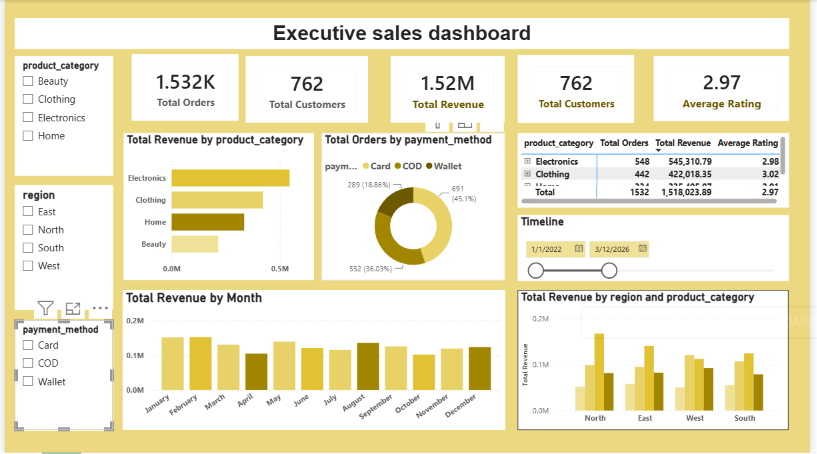

Layout of this report page (visuals, bound fields, positions):
{"tool":"powerbi","page":{"name":"Page 1","canvas":[1280,720],"ordinal":0},"visuals":[{"type":"clusteredBarChart","fields":{"Y":["ecommerce_sales_analytics_5000.Total Revenue"],"Category":["ecommerce_sales_analytics_5000.product_category"]},"box":[189,211.7,302.4,234.3],"z":0},{"type":"clusteredColumnChart","fields":{"Y":["ecommerce_sales_analytics_5000.Total Revenue"],"Category":["ecommerce_sales_analytics_5000.region"],"Series":["ecommerce_sales_analytics_5000.product_category"]},"box":[816.4,461.1,430.9,223],"z":1000},{"type":"donutChart","fields":{"Category":["ecommerce_sales_analytics_5000.payment_method"],"Y":["ecommerce_sales_analytics_5000.Total Orders"]},"box":[504.6,211.7,291,234.3],"z":2000},{"type":"pivotTable","fields":{"Rows":["ecommerce_sales_analytics_5000.product_category","ecommerce_sales_analytics_5000.region"],"Values":["ecommerce_sales_analytics_5000.Total Orders","ecommerce_sales_analytics_5000.Total Revenue","ecommerce_sales_analytics_5000.Average Rating"]},"box":[816,211.6,431.1,117.7],"z":3000},{"type":"slicer","fields":{"Values":["ecommerce_sales_analytics_5000.product_category"]},"box":[15.1,88.8,156.9,190.9],"z":4000},{"type":"slicer","fields":{"Values":["ecommerce_sales_analytics_5000.region"]},"box":[15.1,294.8,156.9,198.4],"z":5000},{"type":"slicer","fields":{"Values":["ecommerce_sales_analytics_5000.payment_method"]},"box":[15.1,508.4,156.9,175.7],"z":6000},{"type":"cardVisual","fields":{"Data":["ecommerce_sales_analytics_5000.Total Orders"]},"box":[202,85.9,170.1,105.8],"z":7000},{"type":"cardVisual","fields":{"Data":["ecommerce_sales_analytics_5000.Total Customers"]},"box":[816.4,86.9,185.2,107.7],"z":8000},{"type":"cardVisual","fields":{"Data":["ecommerce_sales_analytics_5000.Total Customers"]},"box":[383.6,88.8,194.6,105.8],"z":9000},{"type":"cardVisual","fields":{"Data":["ecommerce_sales_analytics_5000.Total Revenue"]},"box":[614.2,88.8,181.4,105.8],"z":10000},{"type":"cardVisual","fields":{"Data":["ecommerce_sales_analytics_5000.Average Rating"]},"box":[1031.8,88.8,215.4,103],"z":11000},{"type":"slicer","title":"Timeline","fields":{"Values":["ecommerce_sales_analytics_5000.order_date"]},"box":[816.4,342,430.9,103.9],"z":12000},{"type":"lineStackedColumnComboChart","fields":{"Category":["ecommerce_sales_analytics_5000.order_date.Variation.Date Hierarchy.Month"],"Y":["ecommerce_sales_analytics_5000.Total Revenue"]},"box":[187.1,461.1,608.5,223],"z":13000},{"type":"textbox","box":[15.1,28.3,1232.1,49.1],"z":14000}]}

Visuals, with their boxes in screenshot pixels (x1, y1, x2, y2), scaled from the page's 1280x720 canvas onto the 817x454 screenshot:
clusteredBarChart - ecommerce_sales_analytics_5000.Total Revenue x ecommerce_sales_analytics_5000.product_category: detection(121, 133, 314, 281)
clusteredColumnChart - ecommerce_sales_analytics_5000.Total Revenue x ecommerce_sales_analytics_5000.region: detection(521, 291, 796, 431)
donutChart - ecommerce_sales_analytics_5000.payment_method x ecommerce_sales_analytics_5000.Total Orders: detection(322, 133, 508, 281)
pivotTable - ecommerce_sales_analytics_5000.product_category x ecommerce_sales_analytics_5000.region: detection(521, 133, 796, 208)
slicer - ecommerce_sales_analytics_5000.product_category: detection(10, 56, 110, 176)
slicer - ecommerce_sales_analytics_5000.region: detection(10, 186, 110, 311)
slicer - ecommerce_sales_analytics_5000.payment_method: detection(10, 321, 110, 431)
cardVisual - ecommerce_sales_analytics_5000.Total Orders: detection(129, 54, 238, 121)
cardVisual - ecommerce_sales_analytics_5000.Total Customers: detection(521, 55, 639, 123)
cardVisual - ecommerce_sales_analytics_5000.Total Customers: detection(245, 56, 369, 123)
cardVisual - ecommerce_sales_analytics_5000.Total Revenue: detection(392, 56, 508, 123)
cardVisual - ecommerce_sales_analytics_5000.Average Rating: detection(659, 56, 796, 121)
"Timeline" slicer: detection(521, 216, 796, 281)
lineStackedColumnComboChart - ecommerce_sales_analytics_5000.order_date.Variation.Date Hierarchy.Month x ecommerce_sales_analytics_5000.Total Revenue: detection(119, 291, 508, 431)
textbox: detection(10, 18, 796, 49)
